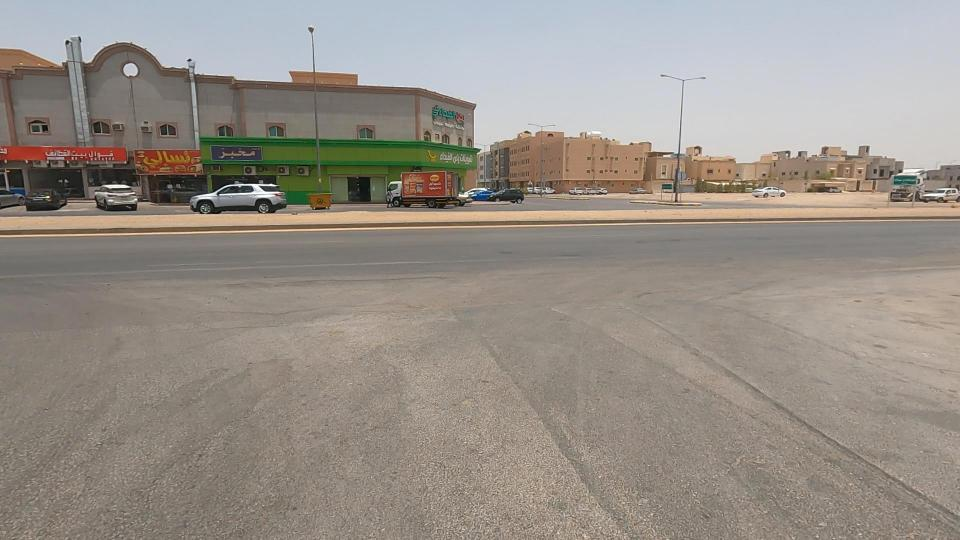POTHOLES: (603, 274, 902, 503), (463, 304, 629, 540)
